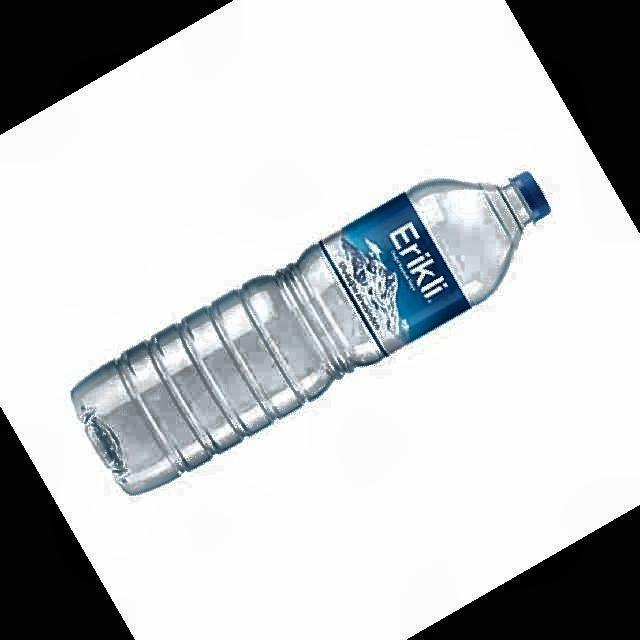plastic: (71, 172, 550, 493)
